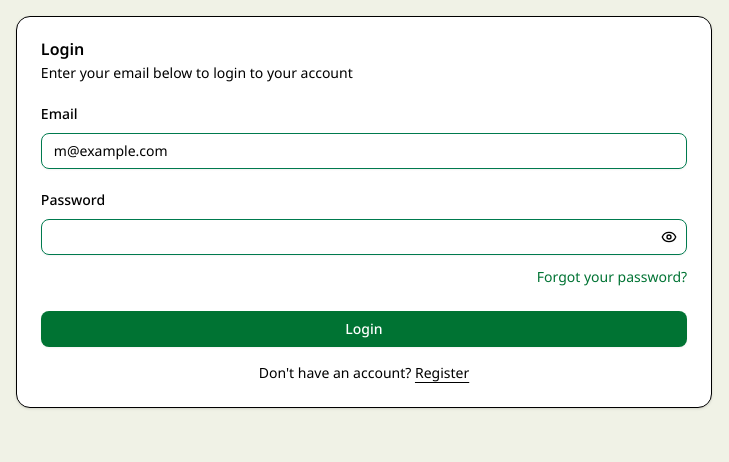
LoginForm › shows error on login failure
Type "fail@example.com" into the field labelled "Email" at coordinates (364, 151), box 41,133 -> 687,169
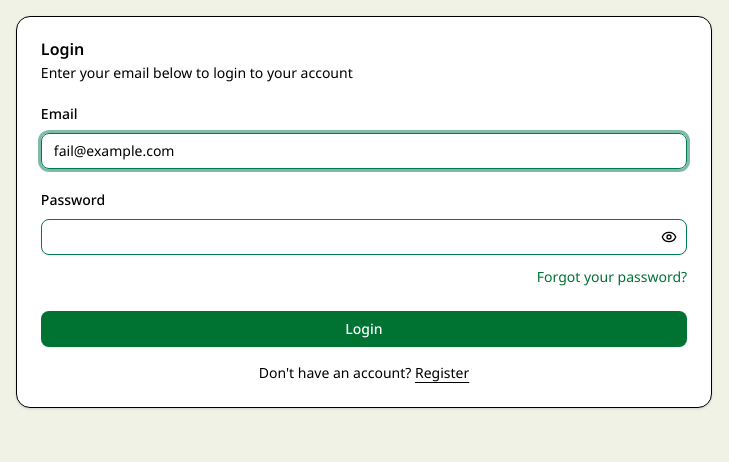
Type "wrong" into the password field labelled "Password" at coordinates (364, 237), box 41,219 -> 687,255
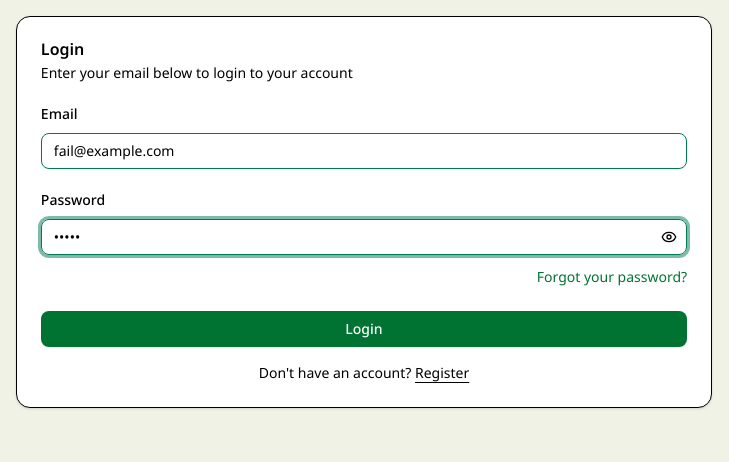
Click the button "Login" at coordinates (364, 329), box 41,311 -> 687,347
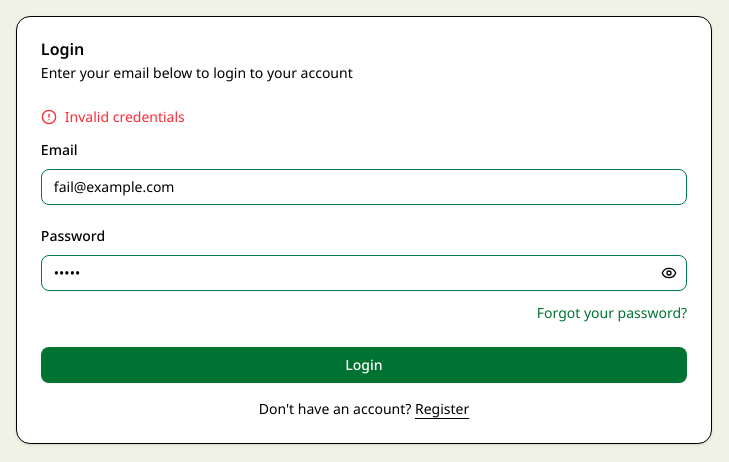
Now the text "Invalid credentials" is shown, box 65,107 -> 185,127
